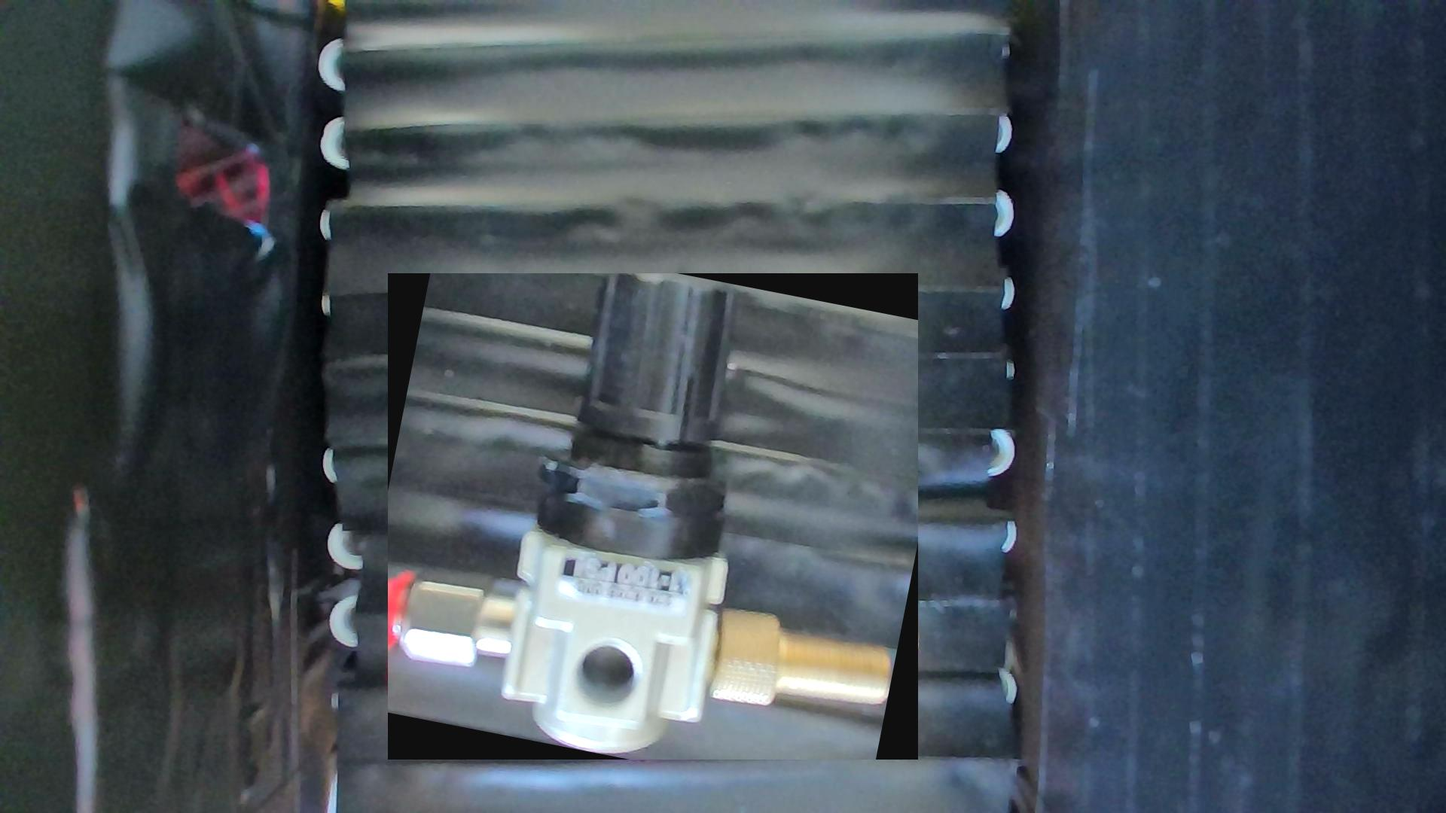regulator: (388, 273, 918, 760)
